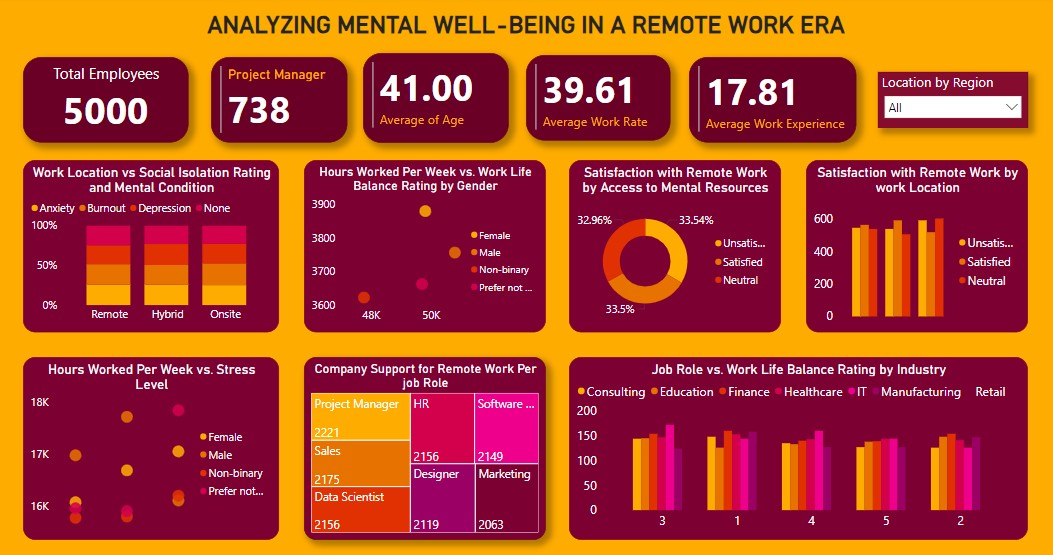

This screenshot's page, from the dashboard's own definition file:
{"tool":"powerbi","page":{"name":"Dashboard","canvas":[1700,900],"ordinal":0},"visuals":[{"type":"scatterChart","title":"Hours Worked Per Week vs. Stress Level","fields":{"Y":["Sum(Impact_of_Remote_Work_on_Mental.Hours_Worked_Per_Week)"],"X":["Impact_of_Remote_Work_on_Mental.Stress_Level"],"Series":["Impact_of_Remote_Work_on_Mental.Gender"]},"box":[38.3,580,413.3,295],"z":0},{"type":"treemap","title":"Company Support for Remote Work Per job Role","fields":{"Group":["Impact_of_Remote_Work_on_Mental.Job_Role"],"Values":["Sum(Impact_of_Remote_Work_on_Mental.Company_Support_for_Remote_Work)"]},"box":[491.9,580.6,390.3,295.2],"z":1000},{"type":"clusteredColumnChart","title":"Satisfaction with Remote Work by work Location","fields":{"Category":["Impact_of_Remote_Work_on_Mental.Work_Location"],"Series":["Impact_of_Remote_Work_on_Mental.Satisfaction_with_Remote_Work"],"Y":["CountNonNull(Impact_of_Remote_Work_on_Mental.Satisfaction_with_Remote_Work)"]},"box":[1301.7,263.3,358.3,278.3],"z":2000},{"type":"donutChart","title":"Satisfaction with Remote Work by Access to Mental Resources","fields":{"Y":["CountNonNull(Impact_of_Remote_Work_on_Mental.Access_to_Mental_Health_Resources)"],"Category":["Impact_of_Remote_Work_on_Mental.Satisfaction_with_Remote_Work"]},"box":[920,263.3,341.7,278.3],"z":3000},{"type":"scatterChart","title":"Hours Worked Per Week vs. Work Life Balance Rating by Gender","fields":{"X":["Sum(Impact_of_Remote_Work_on_Mental.Hours_Worked_Per_Week)"],"Y":["Sum(Impact_of_Remote_Work_on_Mental.Work_Life_Balance_Rating)"],"Series":["Impact_of_Remote_Work_on_Mental.Gender"]},"box":[491.7,263.3,390,278.3],"z":4000},{"type":"clusteredColumnChart","title":"Job Role vs. Work Life Balance Rating by Industry","fields":{"Category":["Impact_of_Remote_Work_on_Mental.Work_Life_Balance_Rating"],"Y":["CountNonNull(Impact_of_Remote_Work_on_Mental.Job_Role)"],"Series":["Impact_of_Remote_Work_on_Mental.Industry"]},"box":[920,580,740,295],"z":5000},{"type":"hundredPercentStackedColumnChart","title":"Work Location vs Social Isolation Rating and Mental Condition","fields":{"Category":["Impact_of_Remote_Work_on_Mental.Work_Location"],"Y":["Sum(Impact_of_Remote_Work_on_Mental.Social_Isolation_Rating)"],"Series":["Impact_of_Remote_Work_on_Mental.Mental_Health_Condition"]},"box":[38.3,263.3,413.3,278.3],"z":6000},{"type":"card","title":"Total Employees","fields":{"Values":["Count(Impact_of_Remote_Work_on_Mental.Employee_ID)"]},"box":[38.3,96.7,266.7,138.3],"z":7000},{"type":"multiRowCard","fields":{"Values":["Count(Impact_of_Remote_Work_on_Mental.Employee_ID)","Impact_of_Remote_Work_on_Mental.Job_Role"]},"box":[341.7,96.7,220,138.3],"z":8000},{"type":"slicer","title":"Location by Region","fields":{"Values":["Impact_of_Remote_Work_on_Mental.Work_Location","Impact_of_Remote_Work_on_Mental.Region"]},"box":[1418.3,121.7,241.7,90],"z":9000},{"type":"multiRowCard","title":"Average Work Rate","fields":{"Values":["Avg(Impact_of_Remote_Work_on_Mental.Hours_Worked_Per_Week)"]},"box":[850,93.3,233.3,138.3],"z":10000},{"type":"multiRowCard","fields":{"Values":["Avg(Impact_of_Remote_Work_on_Mental.Years_of_Experience)"]},"box":[1113.3,96.7,270,138.3],"z":11000},{"type":"multiRowCard","fields":{"Values":["Avg(Impact_of_Remote_Work_on_Mental.Age)"]},"box":[586.7,90,235,145],"z":12000},{"type":"textbox","box":[0,0,1700,78.3],"z":13000}]}

Visuals, with their boxes in screenshot pixels (x1, y1, x2, y2), scaled from the page's 1700x900 canvas onto the 1053x555 screenshot:
"Hours Worked Per Week vs. Stress Level" scatterChart: region(24, 358, 280, 540)
"Company Support for Remote Work Per job Role" treemap: region(305, 358, 546, 540)
"Satisfaction with Remote Work by work Location" clusteredColumnChart: region(806, 162, 1028, 334)
"Satisfaction with Remote Work by Access to Mental Resources" donutChart: region(570, 162, 782, 334)
"Hours Worked Per Week vs. Work Life Balance Rating by Gender" scatterChart: region(305, 162, 546, 334)
"Job Role vs. Work Life Balance Rating by Industry" clusteredColumnChart: region(570, 358, 1028, 540)
"Work Location vs Social Isolation Rating and Mental Condition" hundredPercentStackedColumnChart: region(24, 162, 280, 334)
"Total Employees" card: region(24, 60, 189, 145)
multiRowCard - Count(Impact_of_Remote_Work_on_Mental.Employee_ID) x Impact_of_Remote_Work_on_Mental.Job_Role: region(212, 60, 348, 145)
"Location by Region" slicer: region(879, 75, 1028, 131)
"Average Work Rate" multiRowCard: region(526, 58, 671, 143)
multiRowCard - Avg(Impact_of_Remote_Work_on_Mental.Years_of_Experience): region(690, 60, 857, 145)
multiRowCard - Avg(Impact_of_Remote_Work_on_Mental.Age): region(363, 56, 509, 145)
textbox: region(0, 0, 1052, 48)
